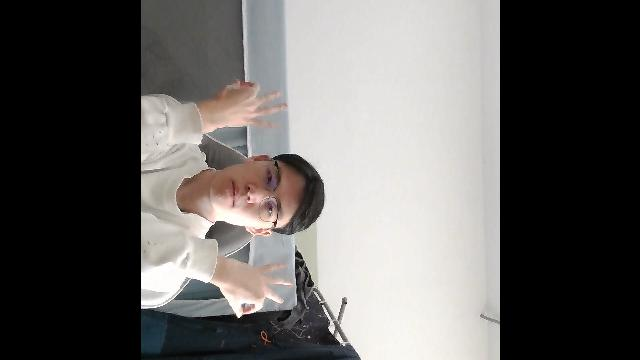ok: (214, 255, 294, 318), (204, 78, 288, 132)
